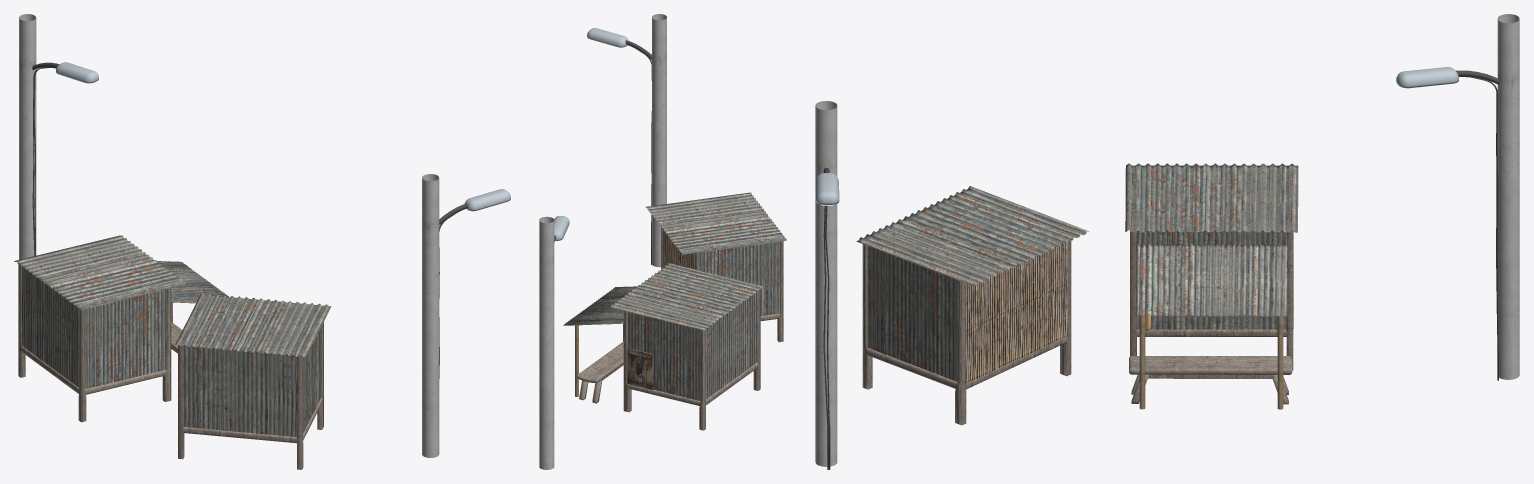
The model's file is pan_shop.glb.
3 renders of one model, left to right at view 1: azimuth 30°, elevation 25°; view 2: azimuth 150°, elevation 25°; view 3: azimuth 270°, elevation 25°, orthographic. The views are drawn at different scales.
Visible parts, largest first — view 1: Plane.009, Plane.001, Plane.002, Plane.008, Cylinder.000, Cylinder.007, Plane.007, Plane, Plane.005, Plane.010, Plane.013, Cube.004 (+1 smaller); view 2: Plane.009, Plane.008, Plane.002, Cylinder.007, Cylinder.000, Plane.001, Plane.007, Plane.005, Plane.019, Plane.011, Plane.010, Plane.004 (+4 smaller); view 3: Plane.002, Plane.008, Plane.005, Plane.004, Plane.001, Cylinder.007, Cylinder.000, Plane, Plane.011, Plane.003, Plane.007, Plane.017 (+4 smaller).
Boxes of the visible parts, x1=… form: Plane.009: x1=22, y1=267, x2=166, y2=389; Plane.001: x1=183, y1=327, x2=321, y2=436; Plane.002: x1=175, y1=293, x2=331, y2=357; Plane.008: x1=14, y1=235, x2=186, y2=309; Cylinder.000: x1=422, y1=174, x2=439, y2=457; Cylinder.007: x1=19, y1=14, x2=36, y2=259; Plane.007: x1=18, y1=264, x2=171, y2=422; Plane: x1=178, y1=322, x2=323, y2=469; Plane.005: x1=156, y1=261, x2=228, y2=303; Plane.010: x1=21, y1=346, x2=166, y2=394; Plane.013: x1=183, y1=397, x2=322, y2=443; Cube.004: x1=464, y1=189, x2=510, y2=211; Plane.009: x1=628, y1=291, x2=756, y2=400; Plane.008: x1=610, y1=263, x2=763, y2=330; Plane.002: x1=646, y1=192, x2=786, y2=254; Cylinder.007: x1=539, y1=216, x2=554, y2=469; Cylinder.000: x1=652, y1=14, x2=666, y2=267; Plane.001: x1=700, y1=241, x2=779, y2=315; Plane.007: x1=623, y1=289, x2=760, y2=430; Plane.005: x1=563, y1=286, x2=637, y2=325; Plane.019: x1=627, y1=348, x2=653, y2=389; Plane.011: x1=576, y1=341, x2=623, y2=383; Plane.010: x1=628, y1=363, x2=758, y2=405; Plane.004: x1=661, y1=228, x2=694, y2=268; Plane.002: x1=856, y1=186, x2=1088, y2=286; Plane.008: x1=1125, y1=163, x2=1298, y2=232; Plane.005: x1=1136, y1=244, x2=1287, y2=316; Plane.004: x1=965, y1=241, x2=1067, y2=383; Plane.001: x1=867, y1=246, x2=957, y2=381; Cylinder.007: x1=1497, y1=14, x2=1519, y2=379; Cylinder.000: x1=815, y1=101, x2=837, y2=466; Plane: x1=862, y1=240, x2=1071, y2=425; Plane.011: x1=1129, y1=356, x2=1292, y2=374; Plane.003: x1=1136, y1=230, x2=1286, y2=245; Plane.007: x1=1130, y1=230, x2=1293, y2=370; Plane.017: x1=1136, y1=316, x2=1286, y2=329.
Bounding box in the file's own units: 12.17 × 10.37 × 18.43.
17 materials, 7 textured.
